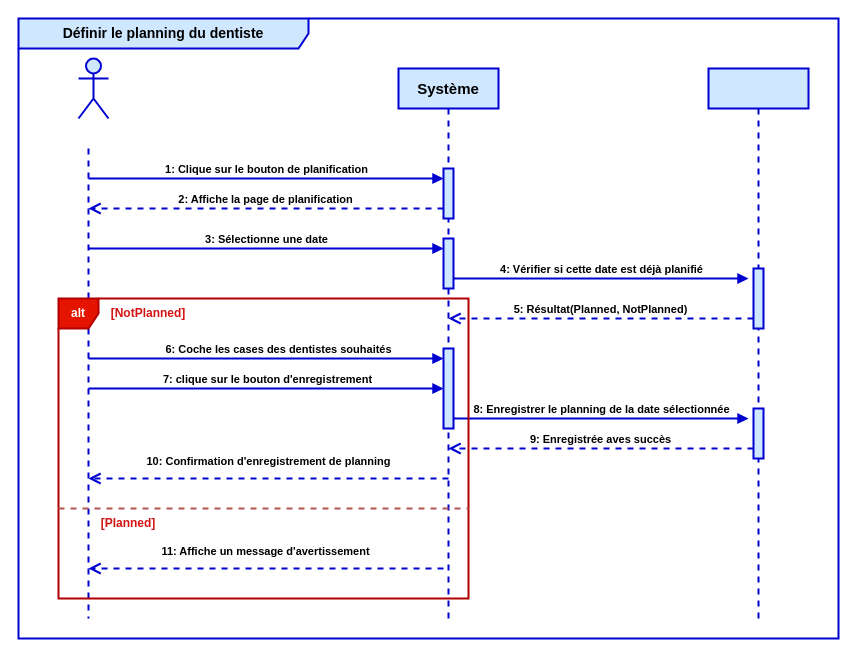
Some shapes in this 856 by 656 pixel diagram are drawn without their labels. The shapes that lost their labels are listed below. From the top down, each one's box as (x1, y1, x2, y2) in pixels, then its label:
(77, 57, 109, 119): Administrateur
(707, 67, 809, 619): SGBD
